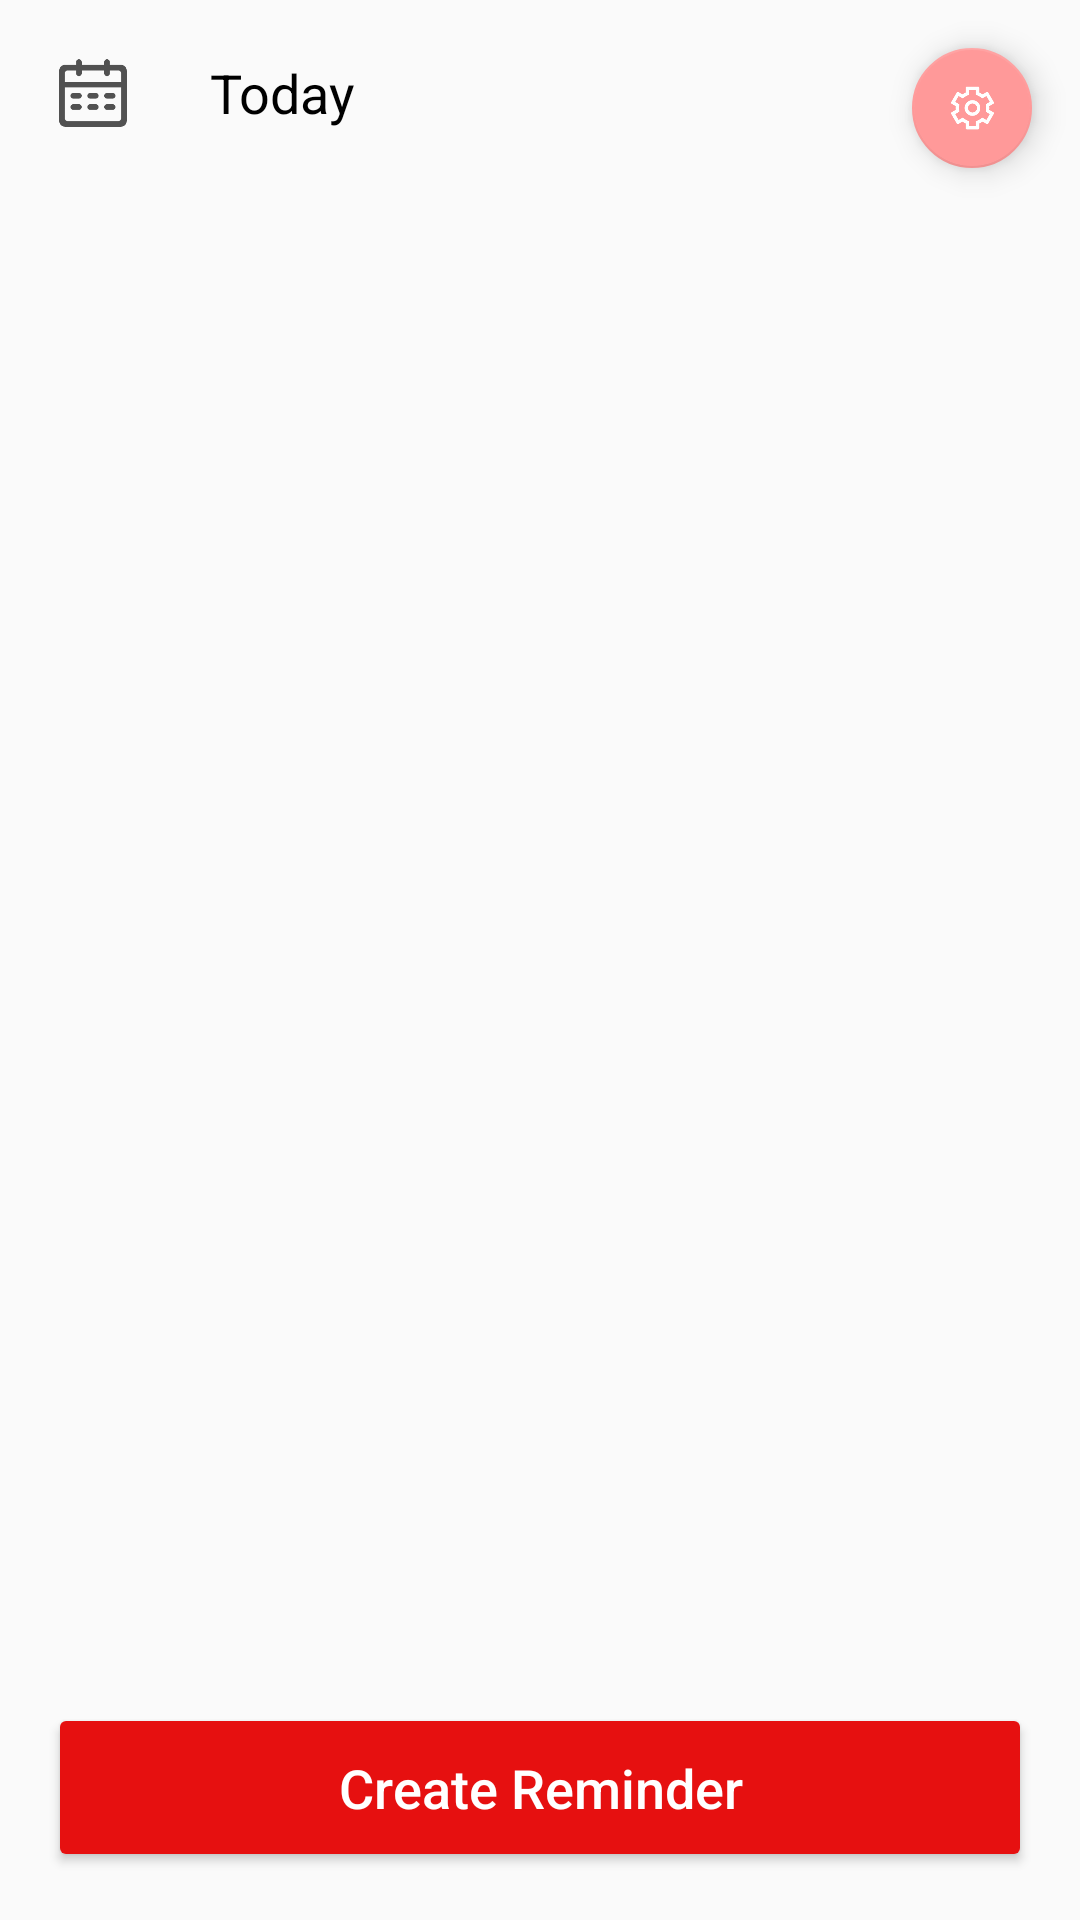

Point at icon controls on the screen. Image size 1080 x 1920, points as (x,y).
Select Date: (93,93)
Settings: (972,108)
